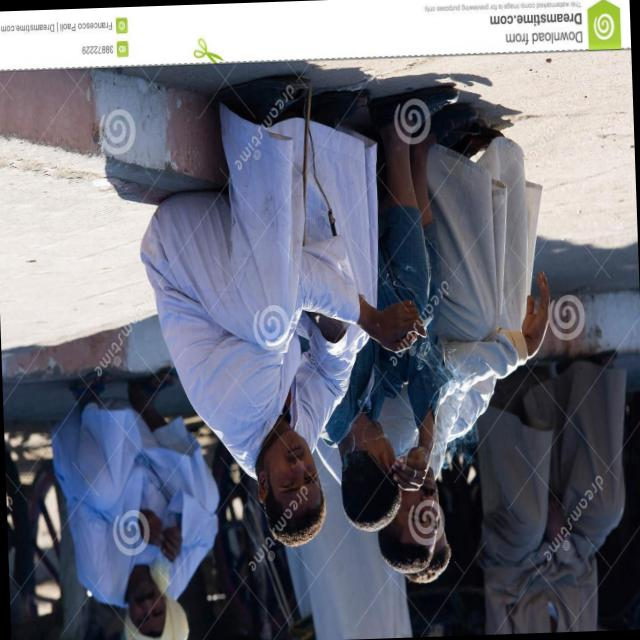cigarette: (411, 308, 440, 344)
